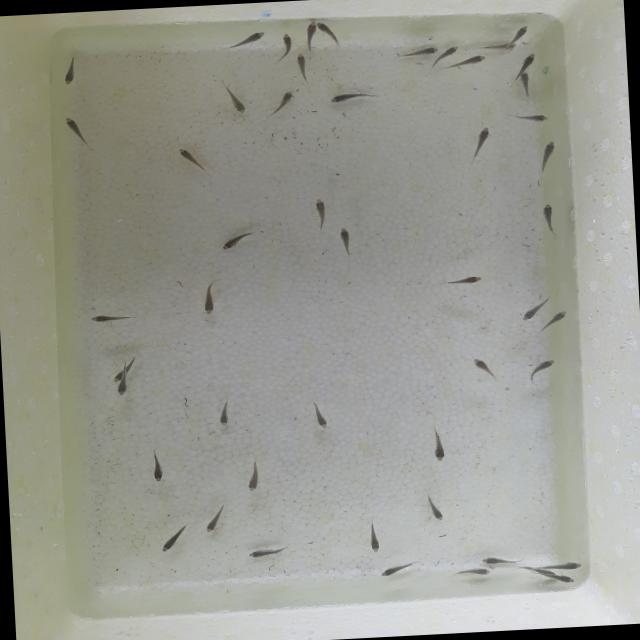fingerling: (176, 146, 212, 178), (58, 51, 86, 90), (436, 272, 492, 290), (521, 292, 554, 320), (218, 230, 260, 252), (158, 525, 189, 553), (421, 492, 446, 523), (225, 86, 250, 115), (364, 520, 384, 556), (328, 90, 378, 104), (444, 56, 492, 70), (429, 428, 448, 463), (337, 224, 354, 262), (274, 31, 296, 60), (233, 29, 268, 47), (313, 196, 331, 231), (88, 312, 133, 326), (534, 560, 586, 572), (63, 114, 85, 142), (273, 89, 299, 112), (246, 456, 262, 492), (217, 398, 235, 430), (204, 509, 226, 535), (469, 357, 496, 378), (109, 362, 137, 382), (400, 45, 440, 59), (540, 202, 556, 236), (474, 125, 494, 152), (538, 312, 568, 330), (150, 448, 165, 484), (295, 52, 312, 83), (540, 572, 576, 586), (318, 20, 341, 41), (509, 113, 552, 124), (247, 546, 284, 558), (517, 51, 540, 70), (530, 359, 555, 376), (518, 70, 532, 100), (478, 42, 520, 52), (112, 380, 134, 399), (378, 566, 412, 578), (305, 22, 322, 46), (510, 23, 534, 40), (540, 140, 556, 165), (313, 408, 329, 431), (480, 555, 513, 566), (441, 42, 462, 59), (456, 568, 490, 578), (201, 292, 215, 316)
